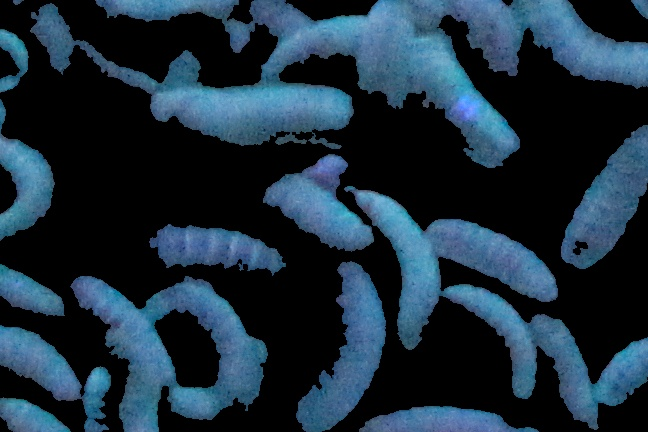larvae: (148, 75, 377, 163), (345, 185, 445, 376), (408, 20, 522, 170), (141, 288, 262, 428), (298, 261, 389, 432), (561, 107, 648, 284), (139, 225, 322, 302), (69, 268, 173, 387), (513, 1, 648, 92), (443, 282, 538, 411), (426, 216, 560, 304), (530, 316, 601, 426), (1, 328, 86, 408), (1, 235, 72, 328), (1, 133, 58, 247), (358, 1, 423, 98), (263, 13, 366, 71), (360, 402, 519, 432), (593, 324, 648, 408), (98, 1, 243, 30), (118, 368, 167, 432), (82, 360, 119, 432), (1, 396, 73, 432)
